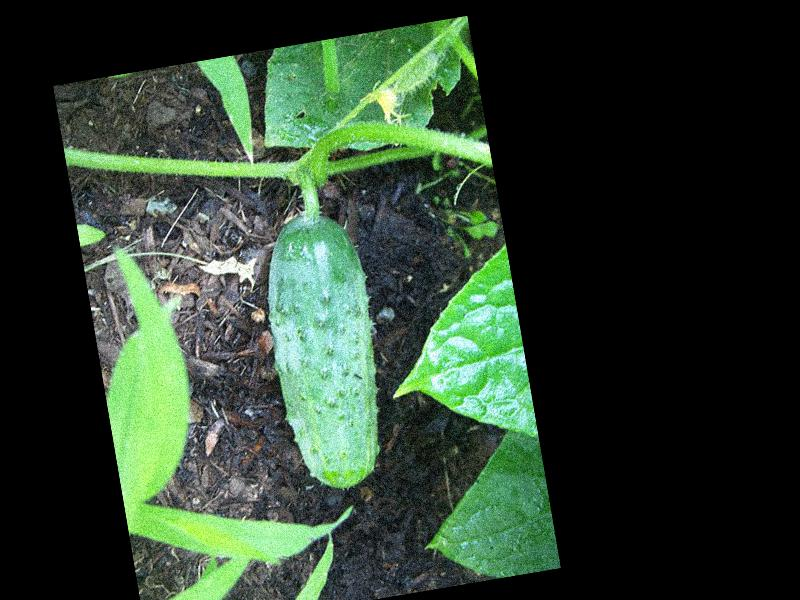Cucumber: (251, 207, 399, 499)
